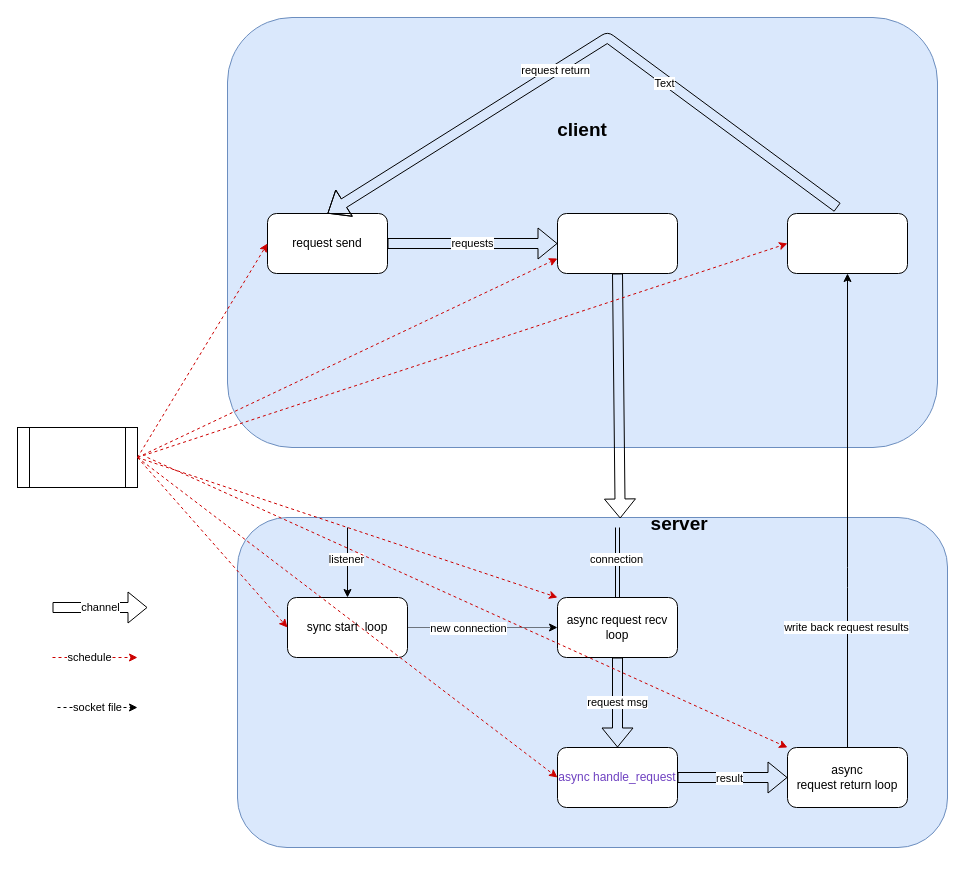
Some shapes in this 965 by 869 pixel diagram are drawn without their labels. The shapes that lost their labels are listed below. From the top down, each one's centre as x and y in pixels, then its label:
At pixel 617 243: "requests recv loop".
At pixel 847 243: "recv answer loop".
At pixel 77 457: "tokio runtime".
